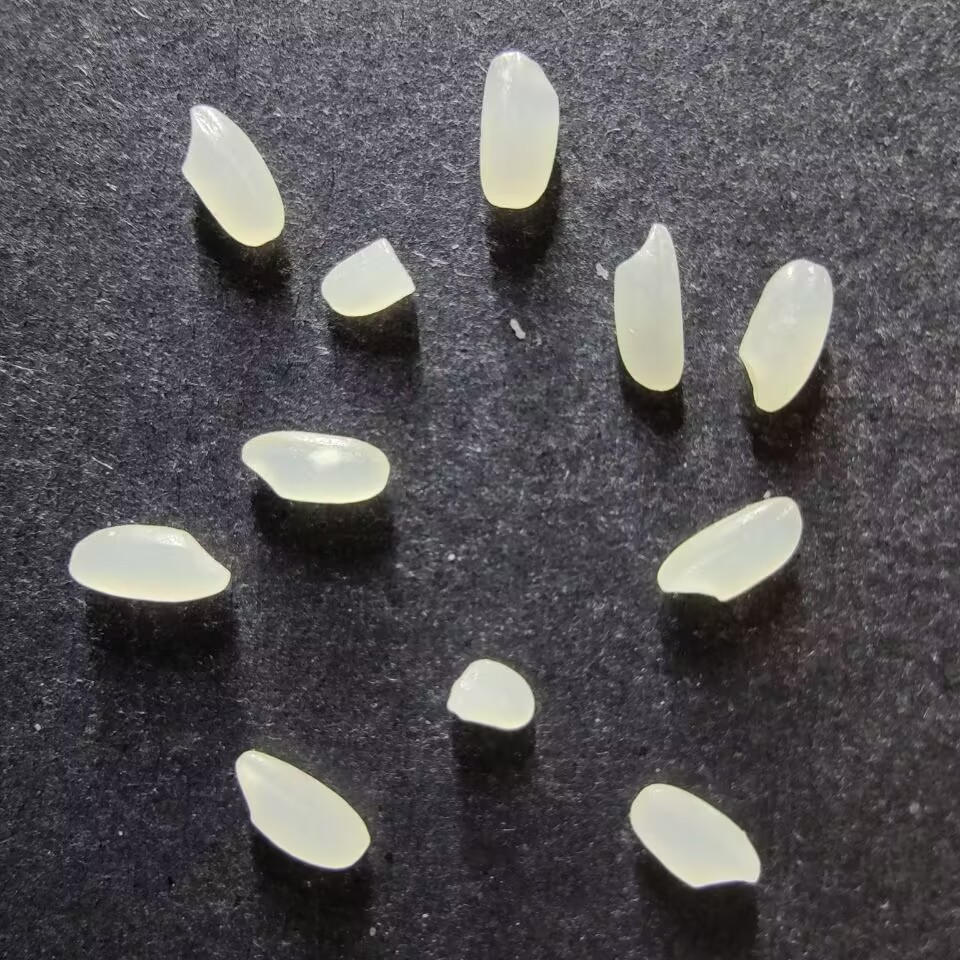broken: (319, 237, 416, 317), (444, 657, 536, 731)
rice: (233, 748, 371, 871), (655, 495, 804, 602), (178, 103, 286, 248), (735, 257, 834, 412), (627, 782, 764, 889), (477, 49, 561, 209), (66, 523, 231, 603), (610, 222, 686, 392), (239, 430, 390, 505)
